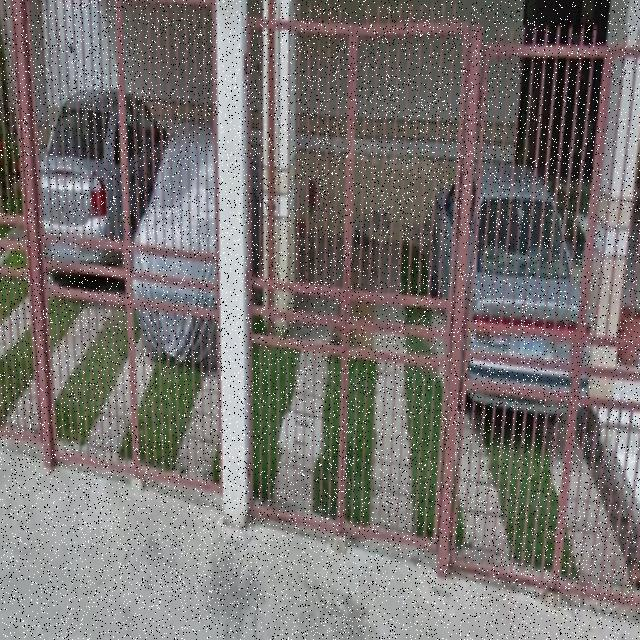cars: (434, 155, 586, 432), (42, 80, 146, 296)
